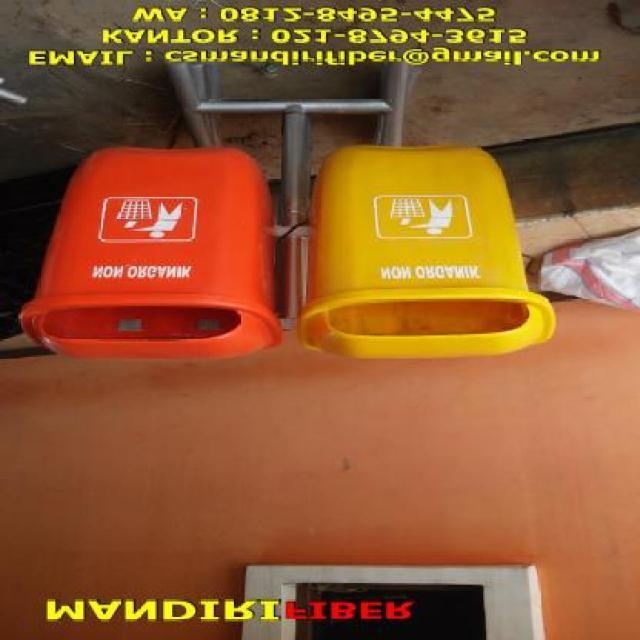garbage container: (285, 133, 576, 362), (7, 131, 278, 370)
